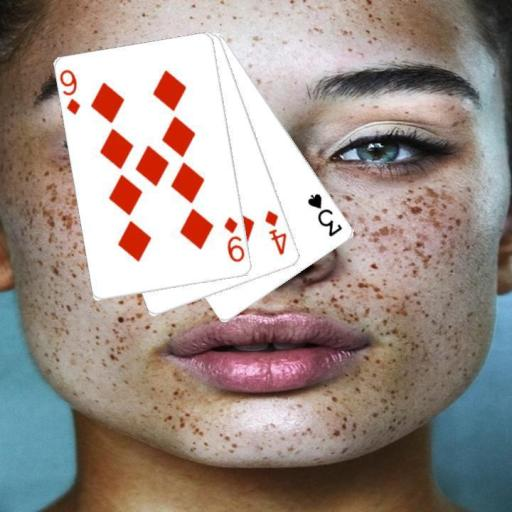card-corner: (304, 190, 344, 238), (221, 214, 246, 264), (262, 208, 288, 256), (58, 66, 82, 117)
